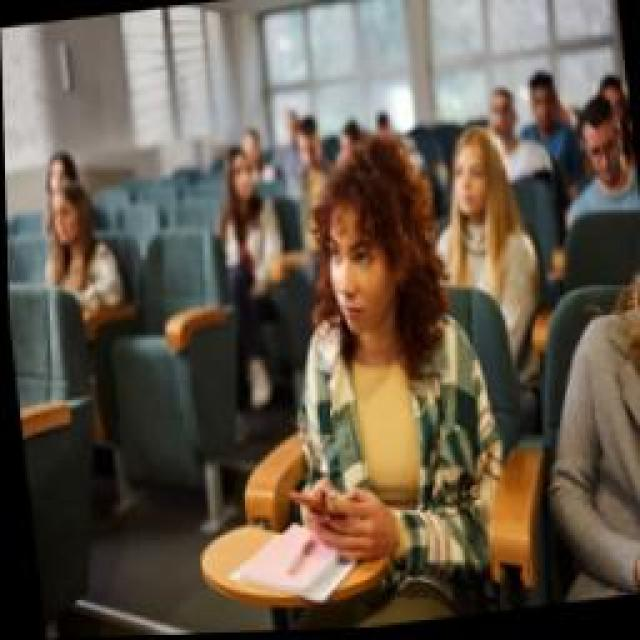phone: (248, 125, 508, 550)
